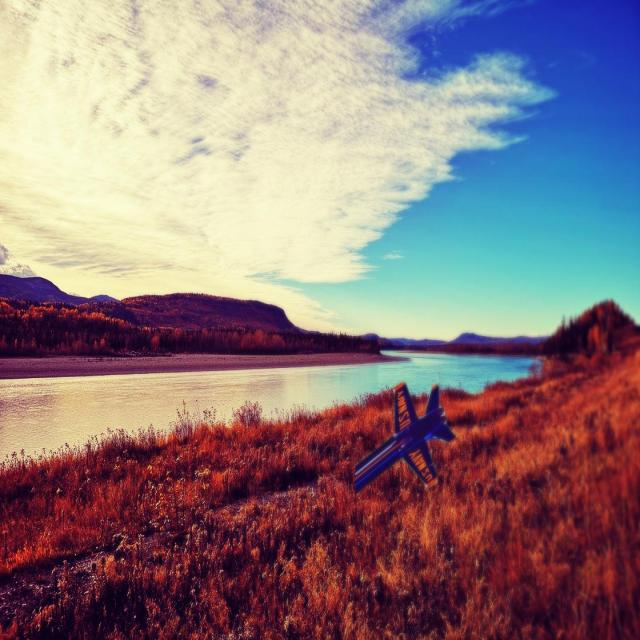airplane: (352, 381, 457, 494)
